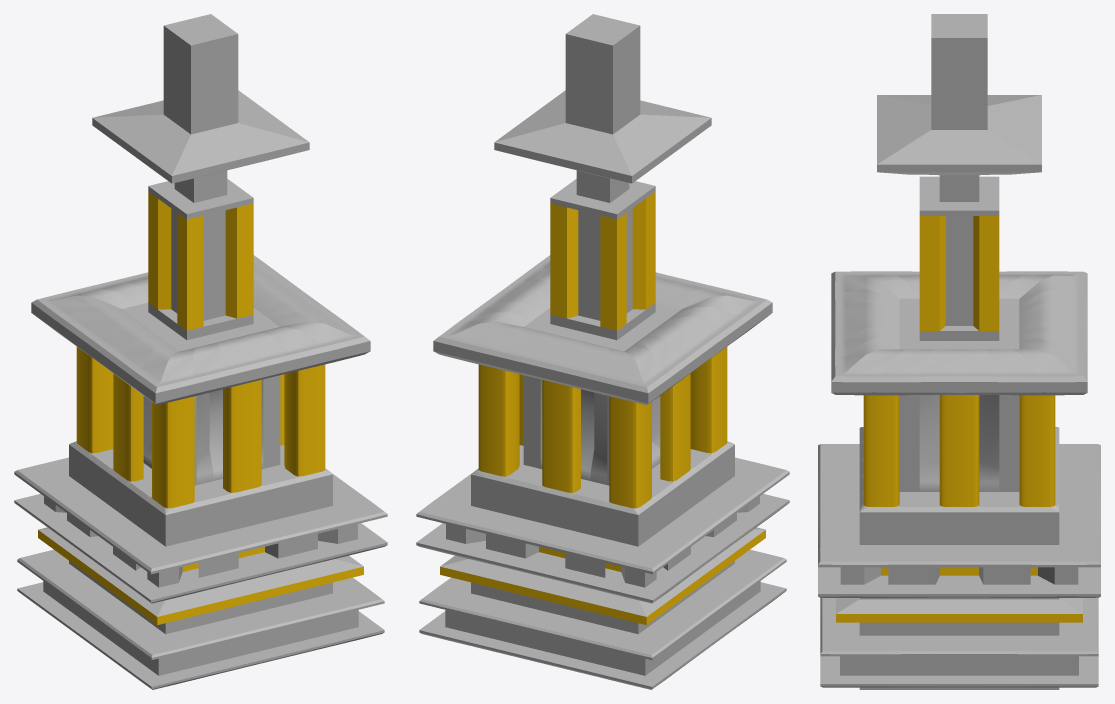
The model's file is engReactor.fbx.
The picture shows the model from 3 angles, left to right: view 1: azimuth 30°, elevation 25°; view 2: azimuth 150°, elevation 25°; view 3: azimuth 270°, elevation 25°; orthographic projection. The views are drawn at different scales.
Visible parts, largest first — view 1: Reactor; view 2: Reactor; view 3: Reactor.
Part boxes in pixels (left/top/right/bottom): Reactor: left=14, top=14, right=387, bottom=689; Reactor: left=416, top=14, right=789, bottom=689; Reactor: left=818, top=14, right=1100, bottom=689.
Bounding box in the file's own units: 70.73 × 172 × 70.73.
